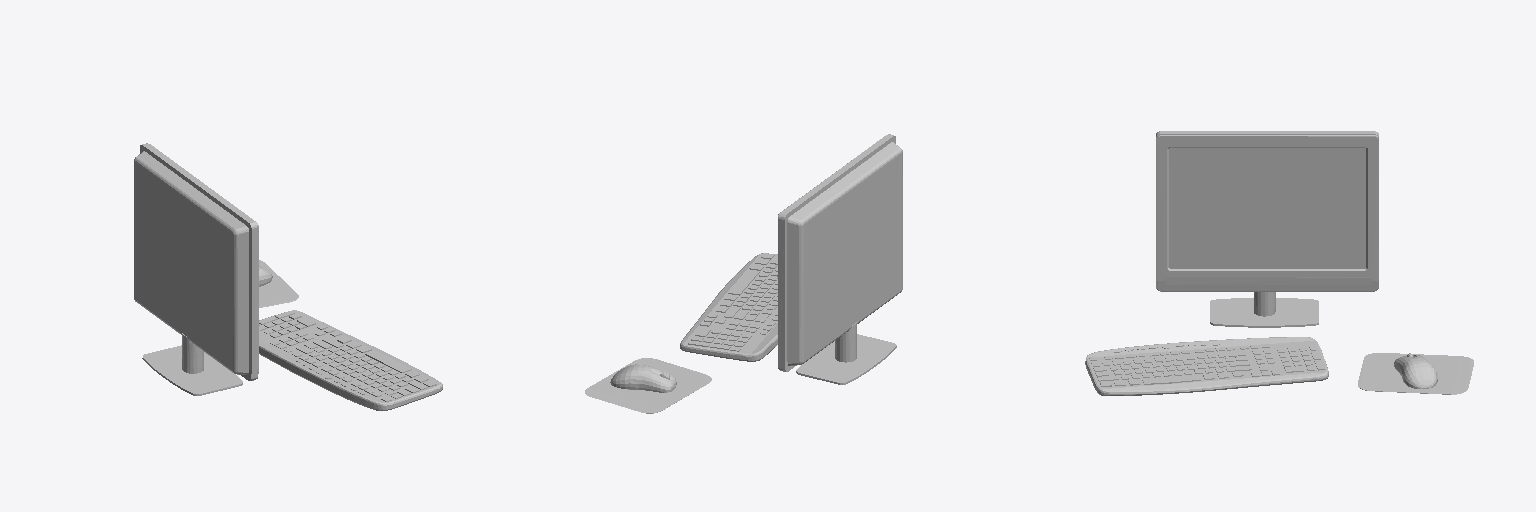
Rendered from monitor1.obj.
3 renders of one model, left to right at view 1: azimuth 30°, elevation 25°; view 2: azimuth 150°, elevation 25°; view 3: azimuth 270°, elevation 25°, orthographic.
Parts seen in each view (by area): view 1: 3d-model_3d-model.013; view 2: 3d-model_3d-model.013; view 3: 3d-model_3d-model.013.
Part boxes in pixels (bbox=[...]): 3d-model_3d-model.013: bbox=[134, 143, 442, 410]; 3d-model_3d-model.013: bbox=[585, 134, 902, 413]; 3d-model_3d-model.013: bbox=[1085, 131, 1473, 395].
Size of the model in its own units: 3.42 by 3.05 by 5.8.